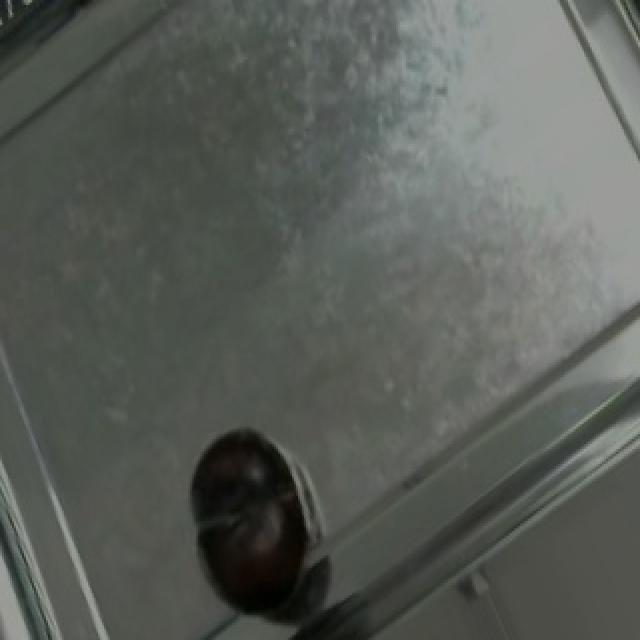Fruit: (176, 409, 324, 633)
